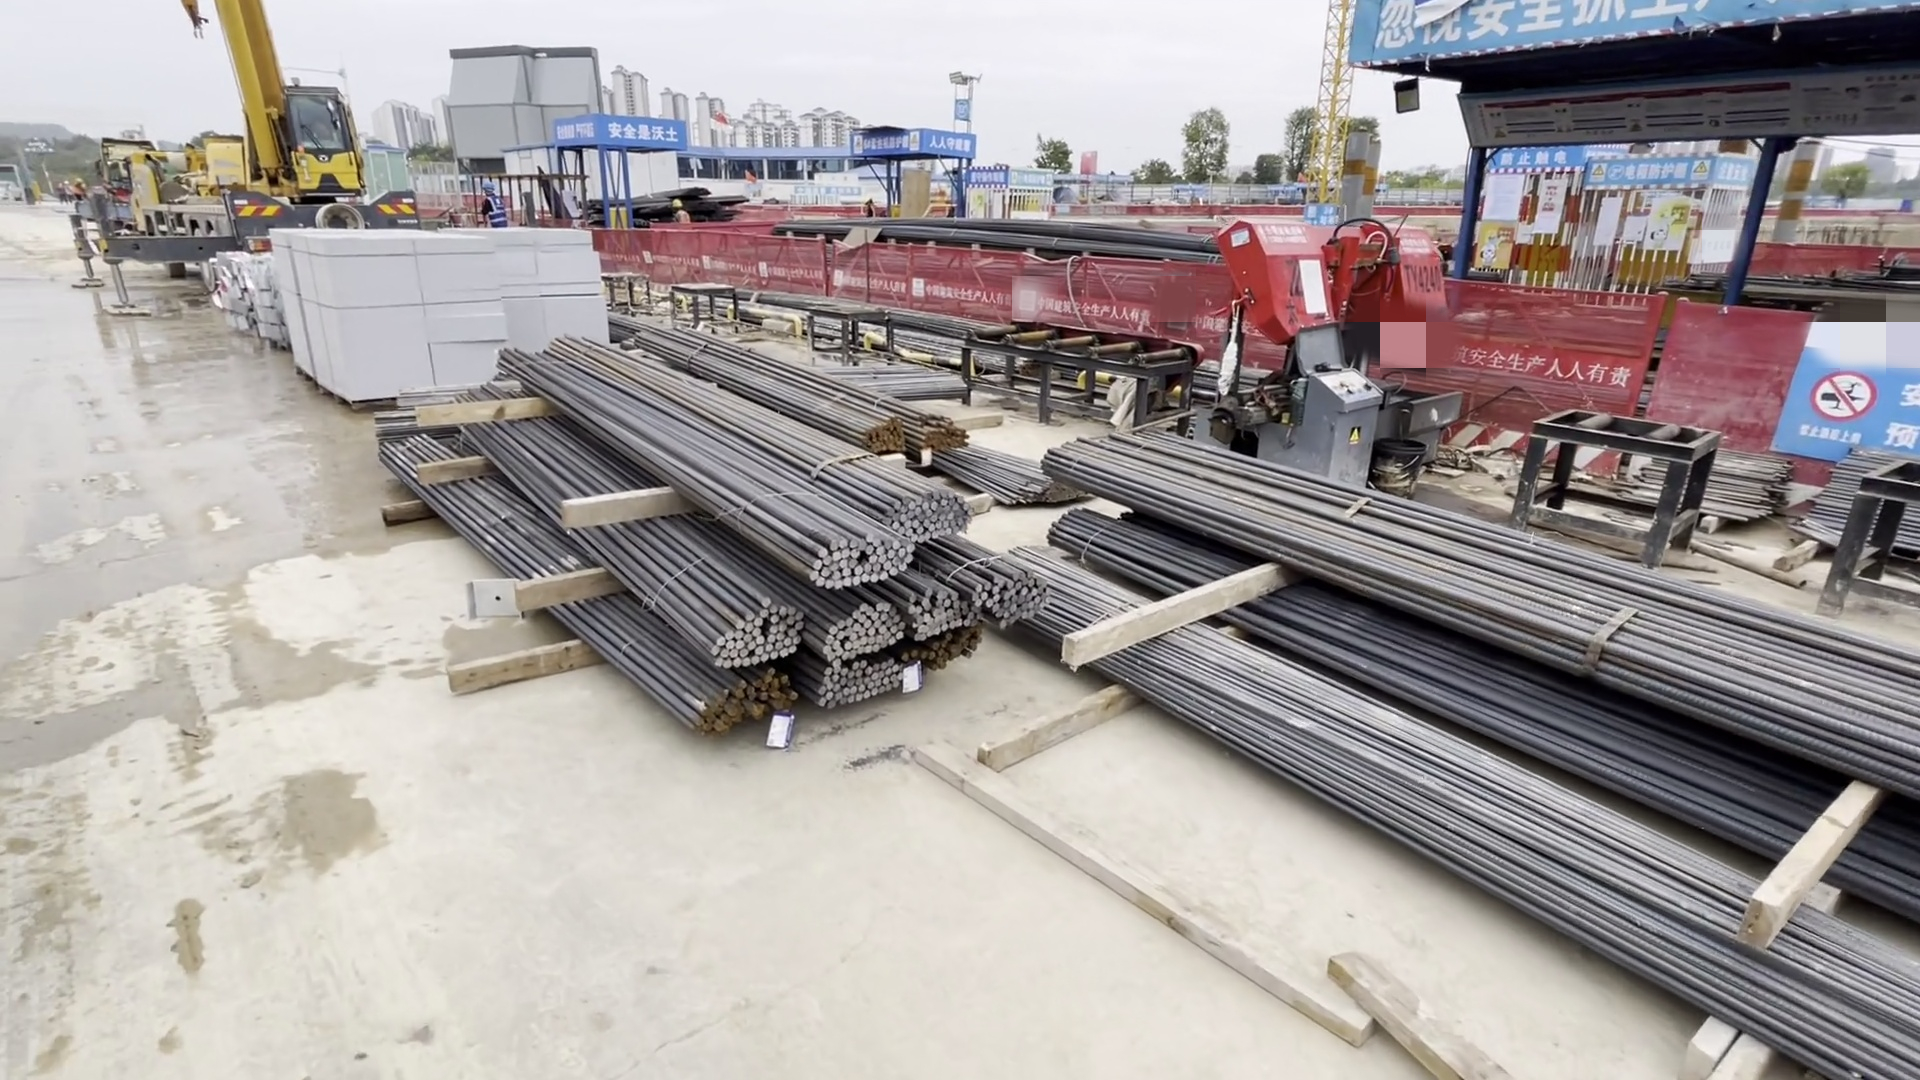brick: (266, 229, 615, 409)
fence: (595, 204, 1247, 364)
rebar: (1023, 415, 1907, 1080), (384, 322, 1052, 738)
slogan: (1476, 144, 1760, 200), (553, 105, 702, 157), (849, 120, 980, 170)
